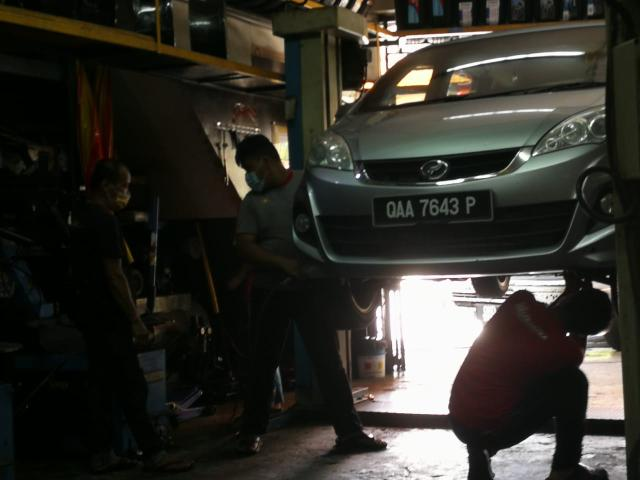License_Plate: (374, 192, 493, 227)
car: (274, 19, 640, 279)
